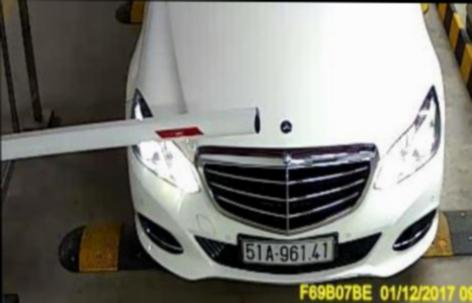License_Plate: (239, 238, 336, 264)
